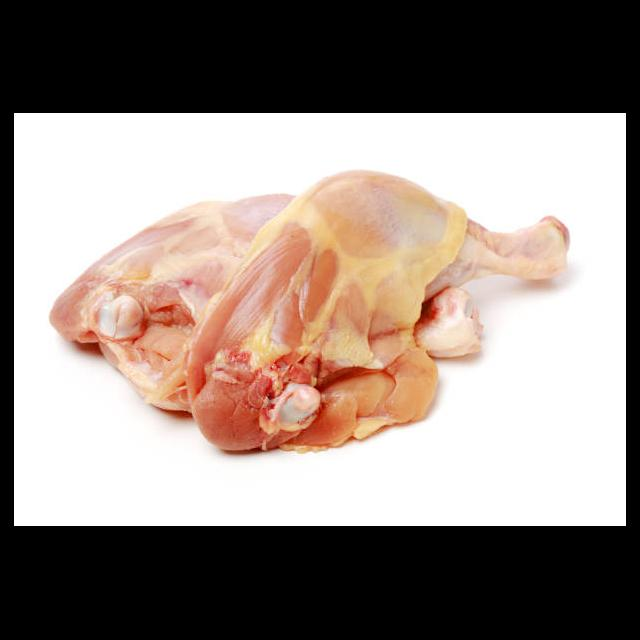chicken: (48, 168, 571, 454)
